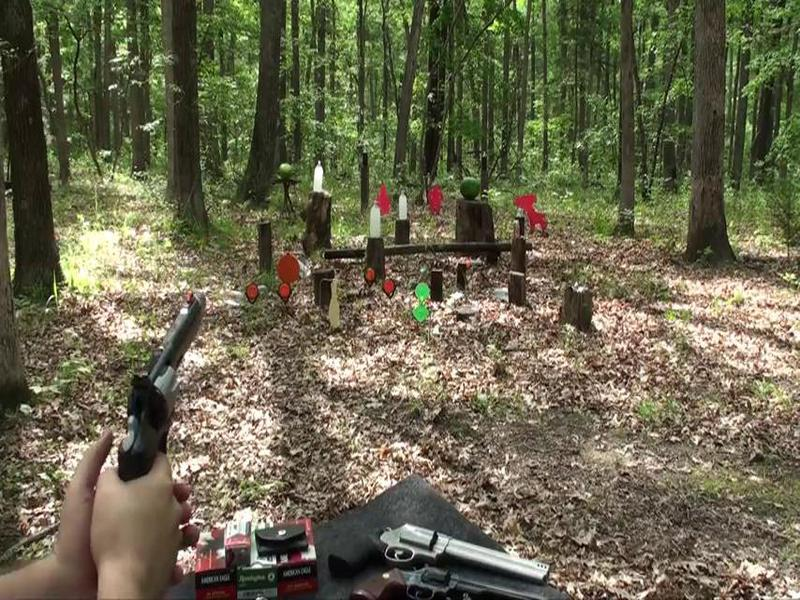Revolver: (117, 264, 211, 510)
